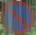No parking: (1, 0, 34, 34)
